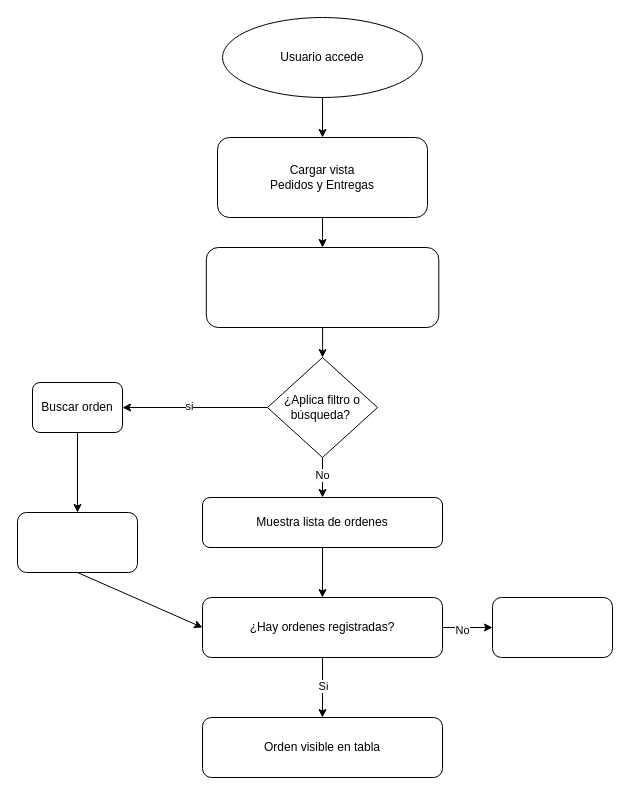
This 630x795 diagram has some shape labels left out. The shapes that lost their labels are listed below. From the top down, each one's box as (x1, y1, x2, y2) in pixels, then its label:
(205, 246, 439, 328): Muestra tarjeta resumen Total, En Proceso, Completadas, Pausas
(16, 512, 138, 572): Filtrar por estado Proceso / Completa / Pausado
(492, 596, 612, 658): Mensaje vacio
